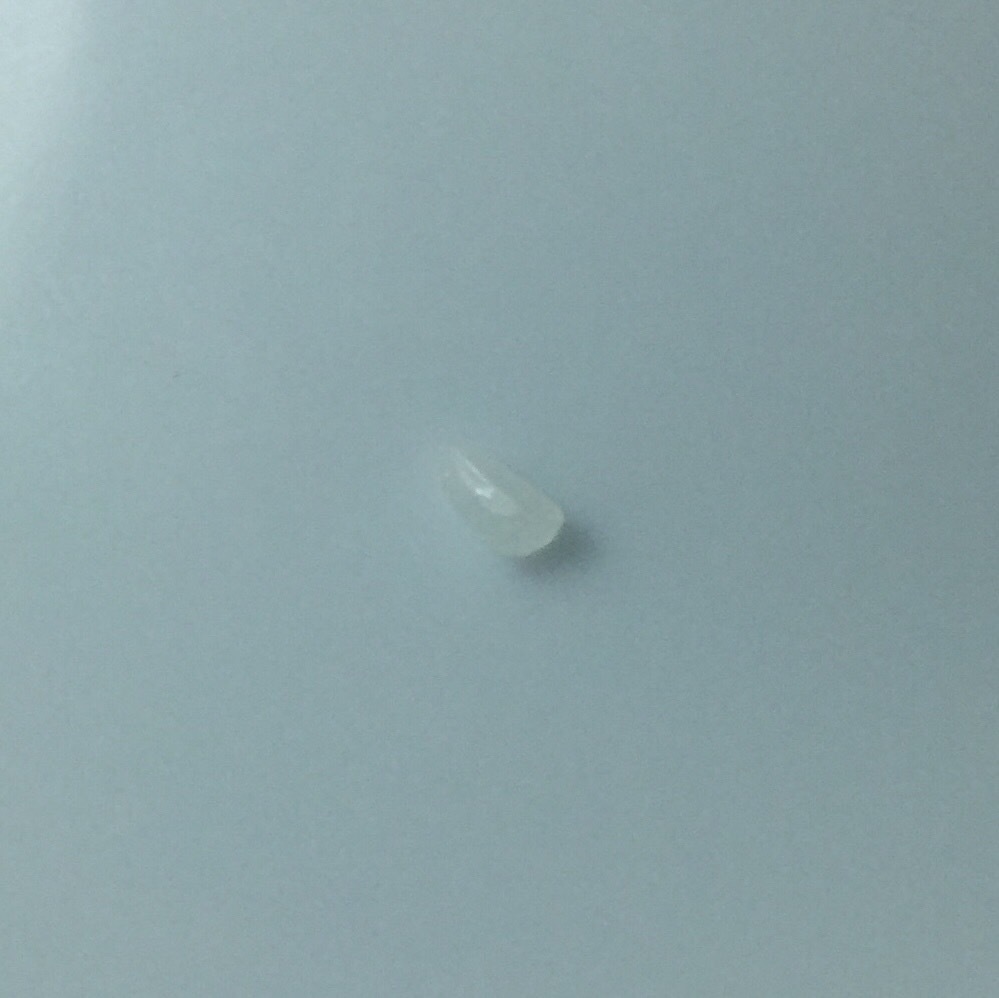Gao Tam: (426, 423, 573, 571)
